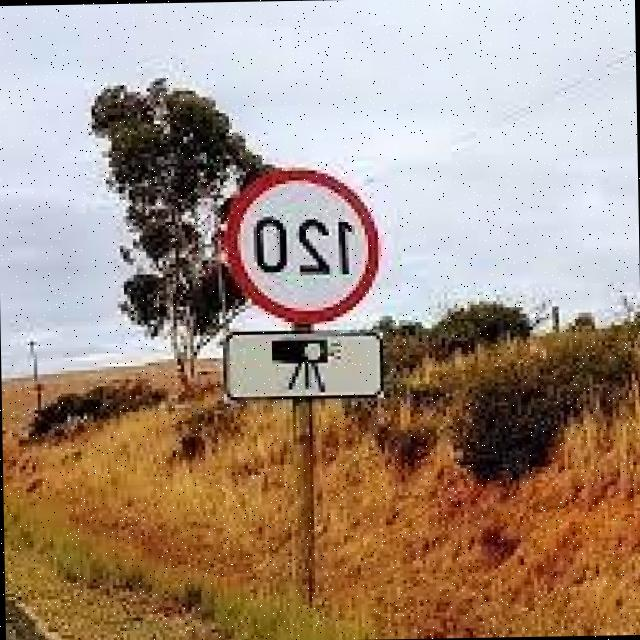speed_limit_120: (224, 154, 393, 326)
